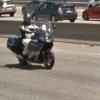Motorcycle: (7, 10, 59, 70)
